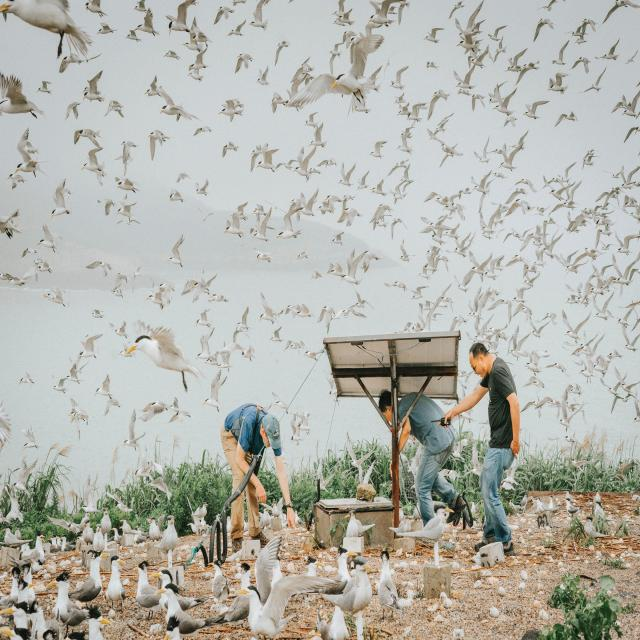bird: (125, 319, 198, 377), (337, 48, 380, 105), (2, 71, 31, 113), (94, 374, 120, 417), (116, 142, 136, 186), (164, 2, 189, 36), (181, 273, 216, 296), (51, 178, 72, 216), (250, 144, 278, 171), (147, 128, 170, 160), (134, 8, 160, 36), (600, 1, 634, 22), (250, 1, 273, 30), (16, 128, 38, 158), (291, 147, 317, 172), (168, 234, 186, 269), (80, 148, 104, 174), (216, 98, 243, 121), (79, 333, 104, 357), (436, 140, 461, 164), (146, 283, 170, 308), (332, 1, 355, 27), (72, 127, 101, 147), (494, 148, 518, 172), (81, 70, 103, 96), (367, 1, 391, 24), (428, 91, 448, 118), (571, 19, 594, 42), (448, 0, 470, 23), (233, 50, 254, 74), (158, 101, 182, 122), (1, 214, 21, 239), (40, 226, 59, 252), (390, 65, 408, 91), (586, 70, 606, 93), (505, 48, 528, 68), (6, 170, 29, 190), (552, 39, 569, 66), (534, 20, 555, 41), (599, 41, 619, 63), (188, 48, 208, 70), (44, 292, 68, 310), (308, 116, 324, 143), (16, 158, 41, 175), (393, 1, 411, 24), (146, 73, 162, 98), (107, 100, 126, 121), (424, 25, 445, 44), (83, 1, 106, 18), (256, 62, 272, 86), (548, 74, 566, 95), (523, 100, 543, 118), (610, 94, 628, 114), (338, 163, 354, 185), (221, 140, 240, 158), (492, 40, 508, 61), (476, 138, 491, 160), (7, 273, 29, 288), (214, 8, 232, 26), (572, 56, 591, 73), (228, 21, 247, 38), (64, 100, 80, 120), (369, 140, 388, 156), (119, 201, 138, 217), (582, 150, 597, 170), (627, 92, 639, 115), (623, 126, 640, 142), (126, 24, 142, 41), (96, 22, 115, 36), (188, 70, 208, 83), (39, 80, 54, 97), (18, 373, 36, 387), (123, 341, 139, 356), (196, 181, 210, 198), (101, 198, 114, 216), (422, 191, 440, 204), (86, 260, 105, 272), (168, 190, 184, 204), (193, 125, 210, 138), (543, 0, 563, 11), (39, 261, 54, 275), (174, 171, 189, 184), (164, 50, 179, 62), (117, 323, 129, 338), (213, 295, 231, 305), (134, 0, 148, 11)
